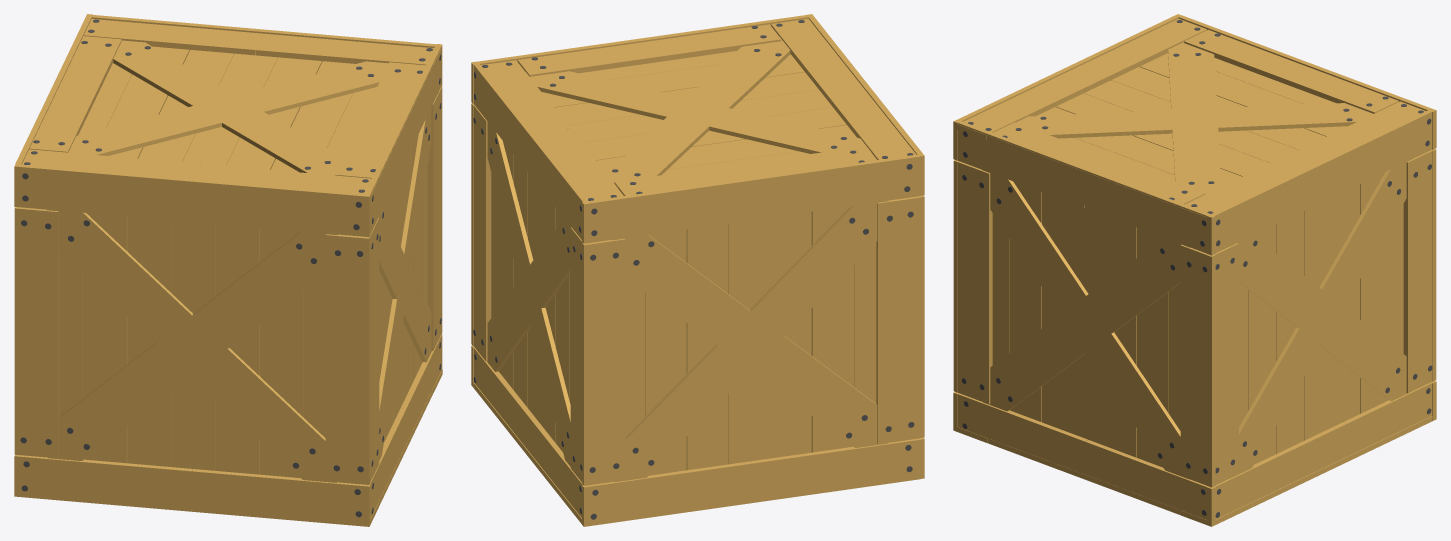
3 renders of one model, left to right at view 1: azimuth 30°, elevation 25°; view 2: azimuth 150°, elevation 25°; view 3: azimuth 270°, elevation 25°, orthographic. The views are drawn at different scales.
Visible parts, largest first — view 1: Cube.001, Cube.005, Cube.002, Cube.004, Cube.003, Cube.006; view 2: Cube.003, Cube.005, Cube.004, Cube.001, Cube.002, Cube.006; view 3: Cube.002, Cube.004, Cube.005, Cube.003, Cube.006, Cube.001.
Part boxes in pixels (<box>): Cube.001: <box>14,164,370,526</box>; Cube.005: <box>22,19,441,200</box>; Cube.002: <box>364,44,442,517</box>; Cube.004: <box>87,15,442,376</box>; Cube.003: <box>15,14,92,164</box>; Cube.006: <box>370,369,442,523</box>; Cube.003: <box>582,154,919,526</box>; Cube.005: <box>481,19,922,200</box>; Cube.004: <box>472,61,588,517</box>; Cube.001: <box>807,14,924,478</box>; Cube.002: <box>471,15,808,386</box>; Cube.006: <box>473,382,921,523</box>; Cube.002: <box>958,121,1215,526</box>; Cube.004: <box>1207,108,1434,526</box>; Cube.005: <box>954,18,1425,223</box>; Cube.003: <box>1178,15,1436,420</box>; Cube.006: <box>957,416,1432,526</box>; Cube.001: <box>953,14,1181,431</box>.
Size of the model in its own units: 2.83 by 2.01 by 2.84.
